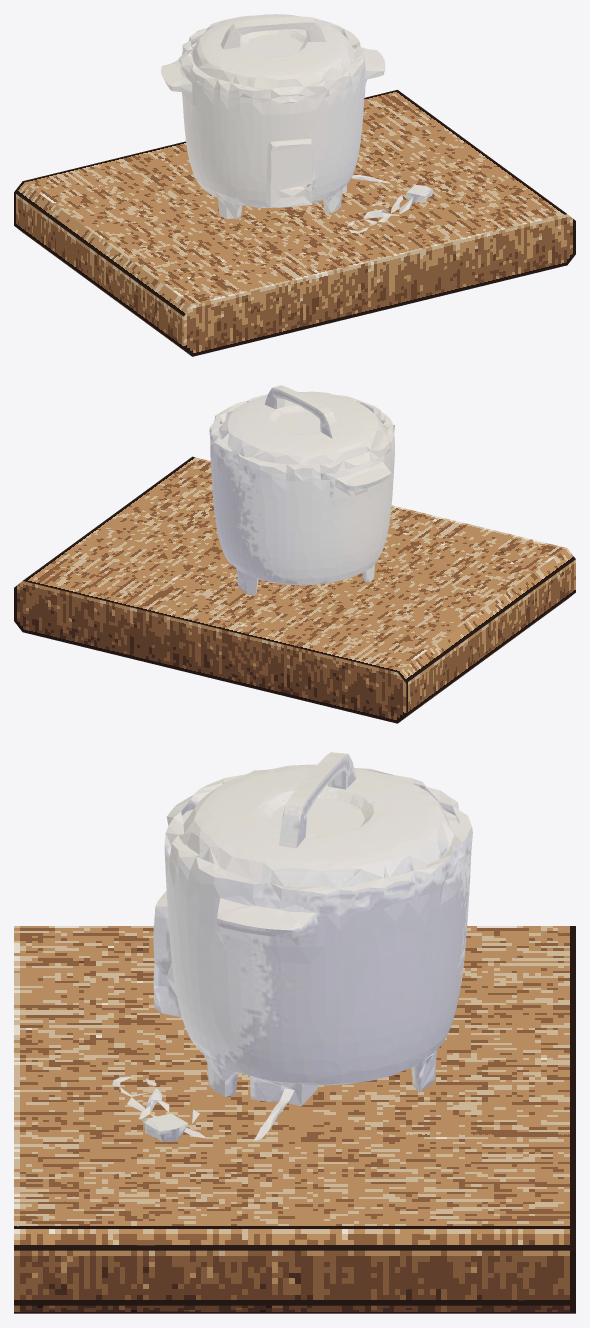
The model's file is cooker.glb.
3 views of the same model, one above another, from view 1: azimuth 30°, elevation 25°; view 2: azimuth 150°, elevation 25°; view 3: azimuth 270°, elevation 25° (orthographic). The views are drawn at different scales.
Visible parts, largest first — view 1: base, model_cooker; view 2: base, model_cooker; view 3: base, model_cooker.
Boxes of the visible parts, x1,y1,x2,y2 form: base: (14,90,575,356); model_cooker: (161,14,432,232); base: (14,456,575,723); model_cooker: (209,385,394,595); base: (14,926,575,1313); model_cooker: (112,752,472,1141).
Size of the model in its own units: 32 by 17.73 by 24.
2 materials, 2 textured.
